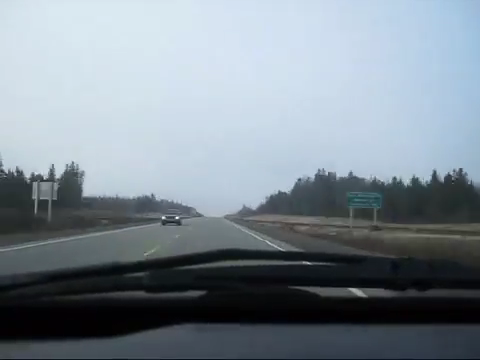car: (160, 208, 182, 225)
